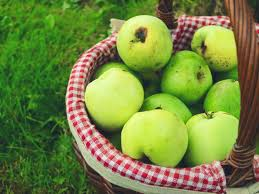apple: (123, 111, 187, 167), (81, 71, 143, 126), (191, 113, 238, 162)
damaged_apple: (167, 49, 217, 105), (118, 19, 174, 62), (190, 26, 236, 68)
